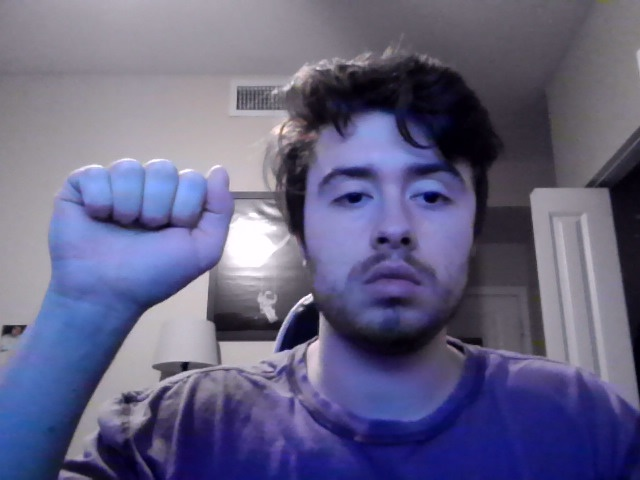a: (46, 157, 236, 315)
